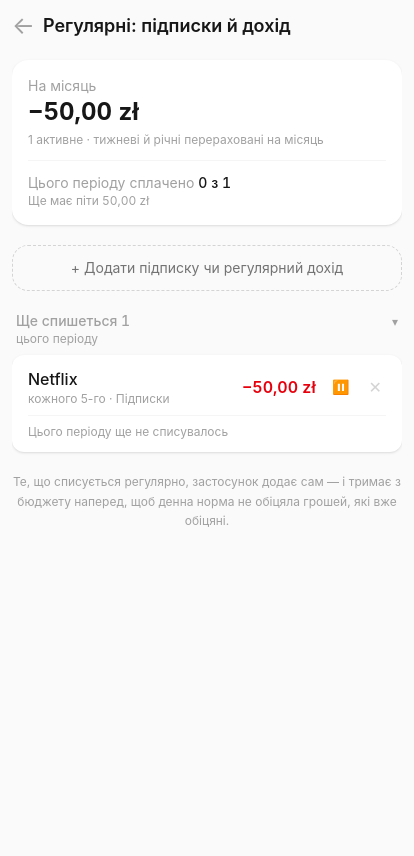
Test: Recurring — editing › goes back to adding when the correction is cancelled
The width and height of the screenshot is (414, 856).
Click the text "Netflix" at (53, 379), box [28, 369, 78, 389]
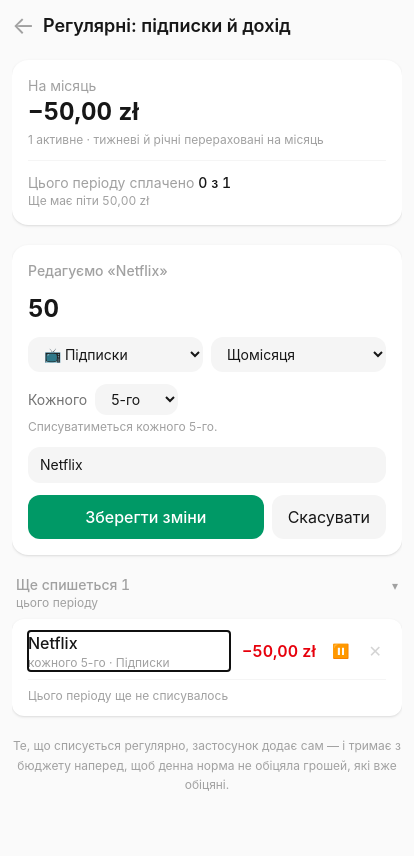
Click the button "Скасувати" at (329, 517), box [272, 495, 386, 539]
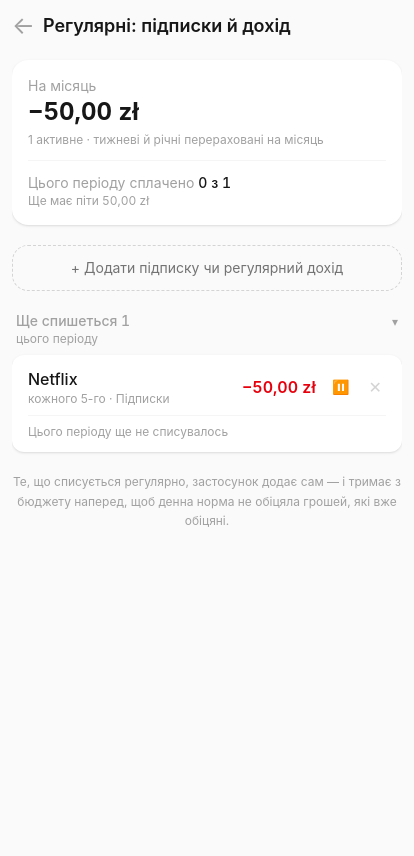
Check: the text "Редагуємо" is gone
Check: the button "+ Додати підписку чи регулярний дохід" is shown, box [12, 245, 402, 291]
